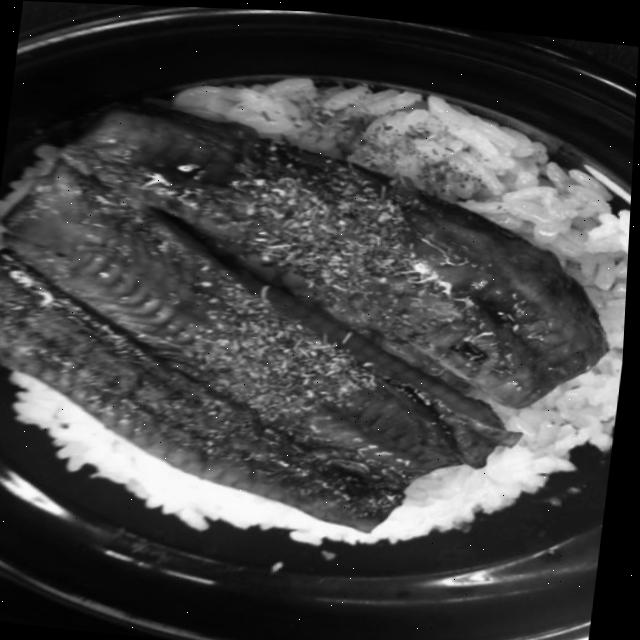熟制海鲜: (0, 107, 611, 546)
